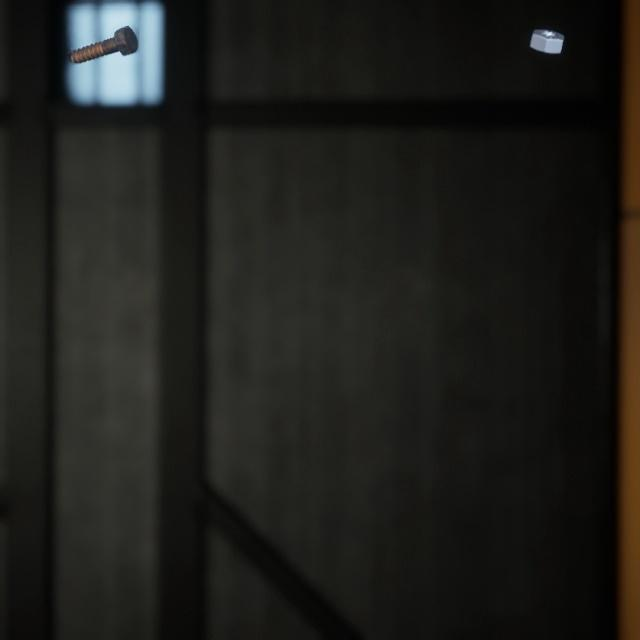bolt: (65, 12, 142, 58)
nut: (525, 15, 569, 49)
